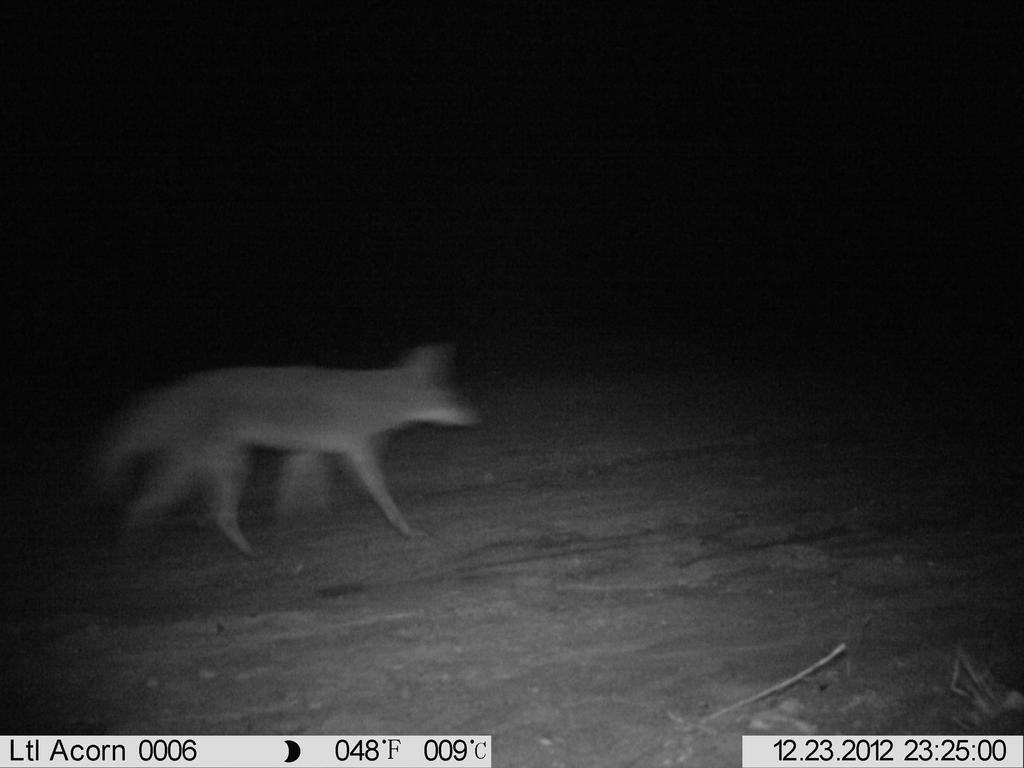coyote: (79, 338, 489, 574)
